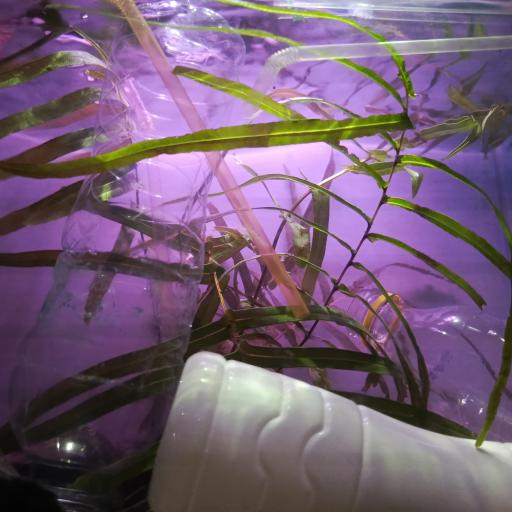plastic_bottle: (19, 0, 256, 512), (149, 345, 512, 511), (351, 281, 512, 417)
plastic_straw: (122, 0, 309, 321), (259, 36, 512, 98)
